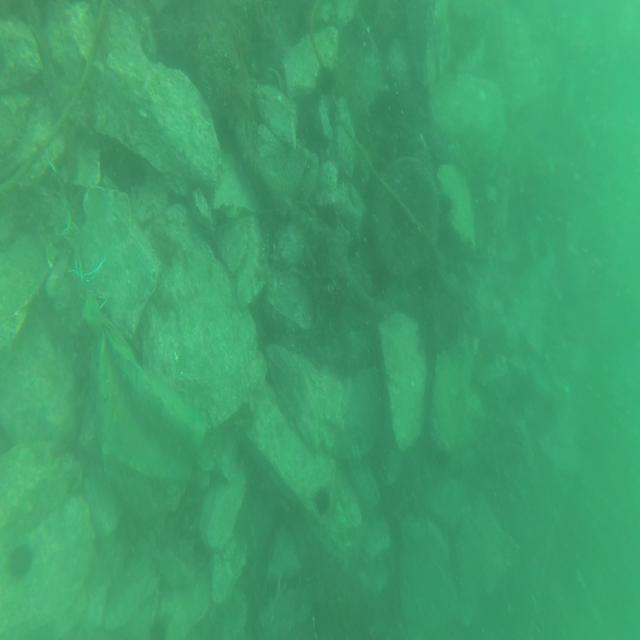echinus: (6, 541, 34, 583), (312, 482, 332, 518)
